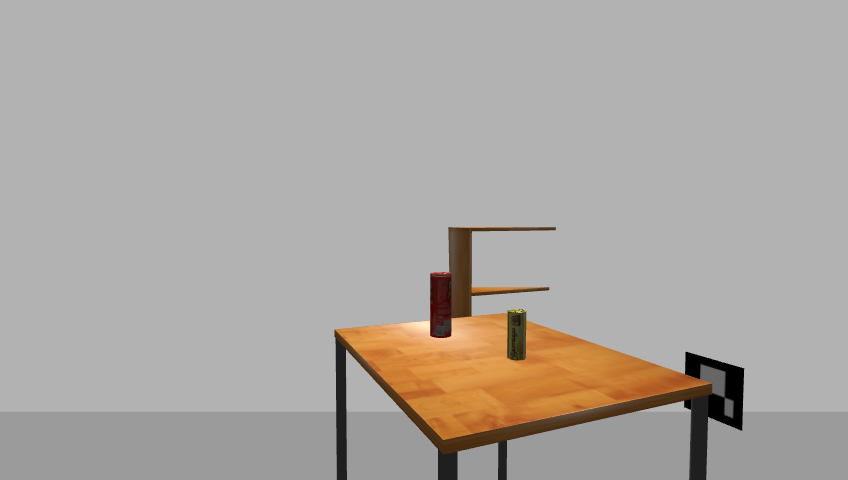aruco marker: (679, 350, 750, 433)
biscuits pack: (506, 309, 528, 362)
bookshelf: (445, 223, 559, 375)
dinner table: (326, 314, 720, 480)
pringles can: (428, 271, 453, 339)
